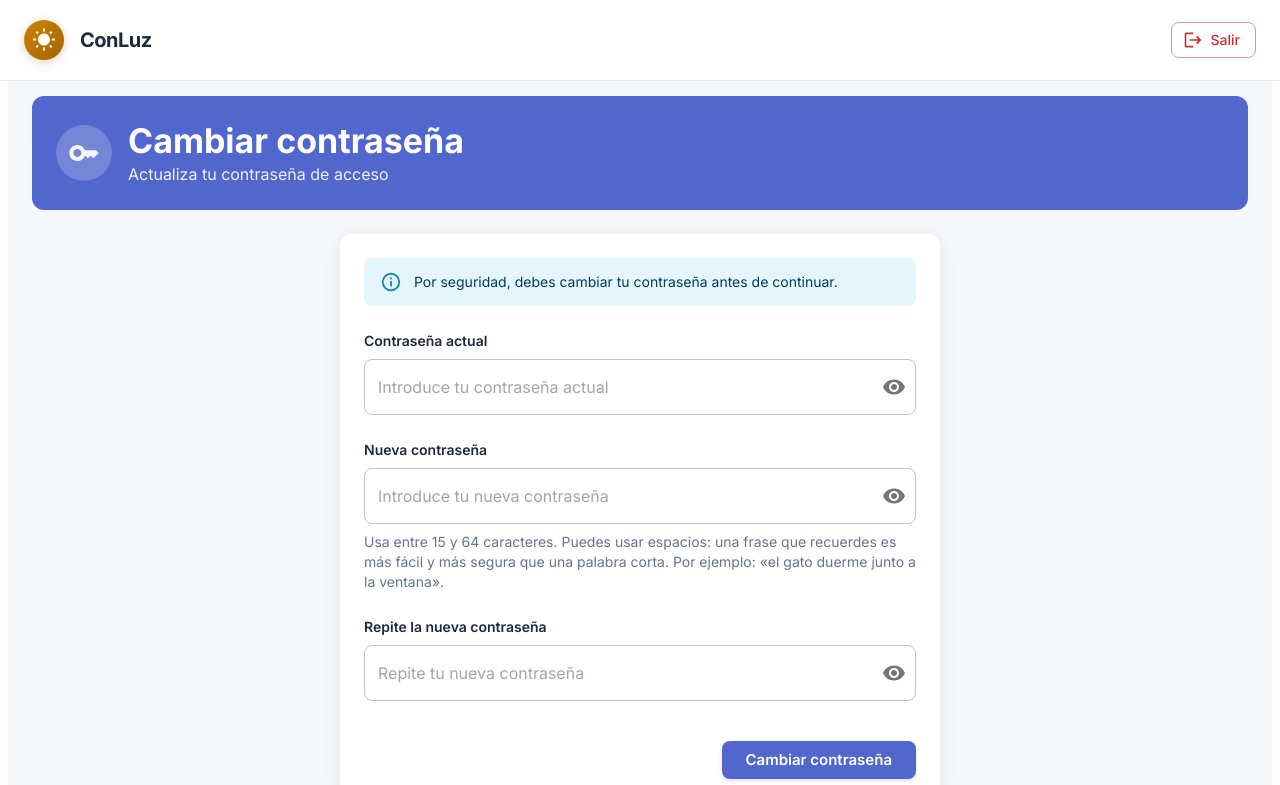
Test case: a caller who must change their password (#213) › sends nothing outside the allowed three, all the way to logging out (AC1)
Click the button "Salir" at (1213, 40), box x1=1170 y1=22 x2=1256 y2=58
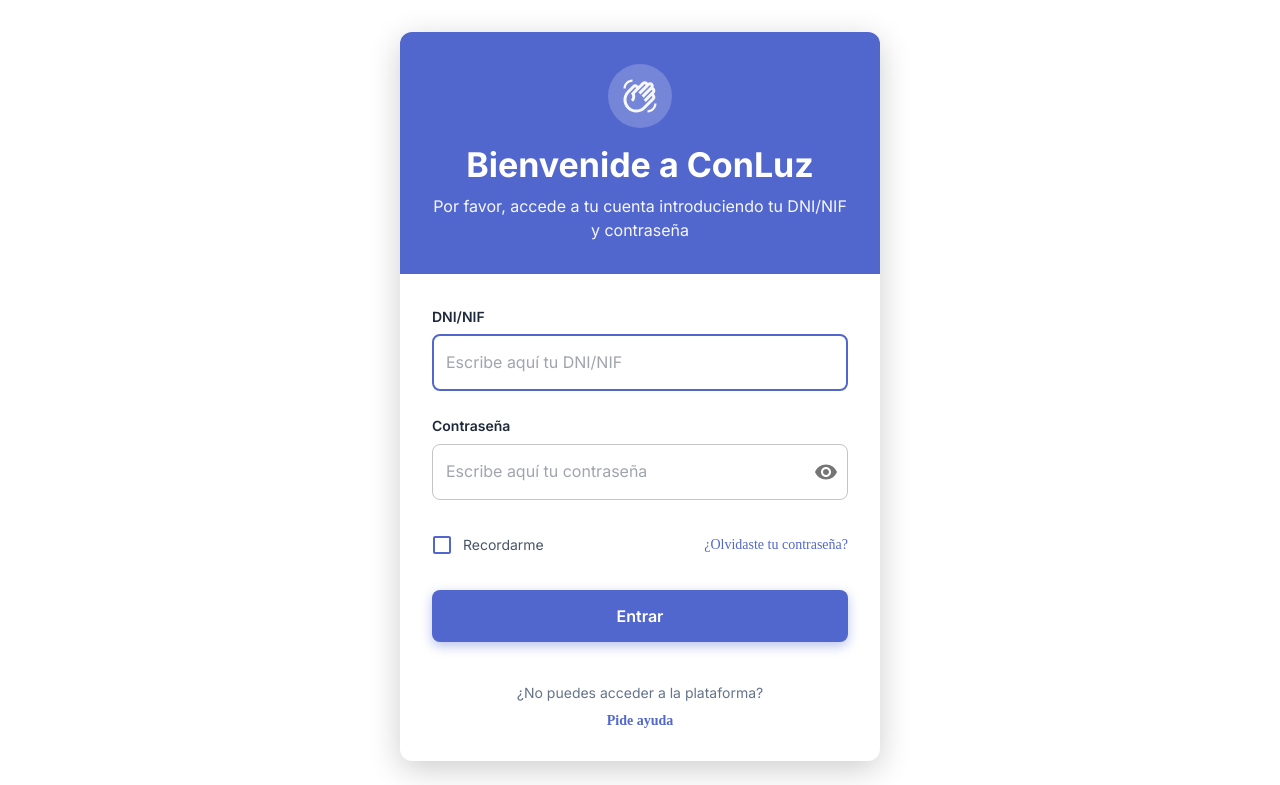
Expected: the heading "Bienvenide a ConLuz" is shown, x1=466 y1=144 x2=814 y2=185
